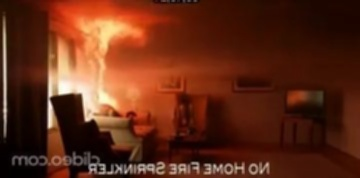fire: (68, 1, 148, 125)
